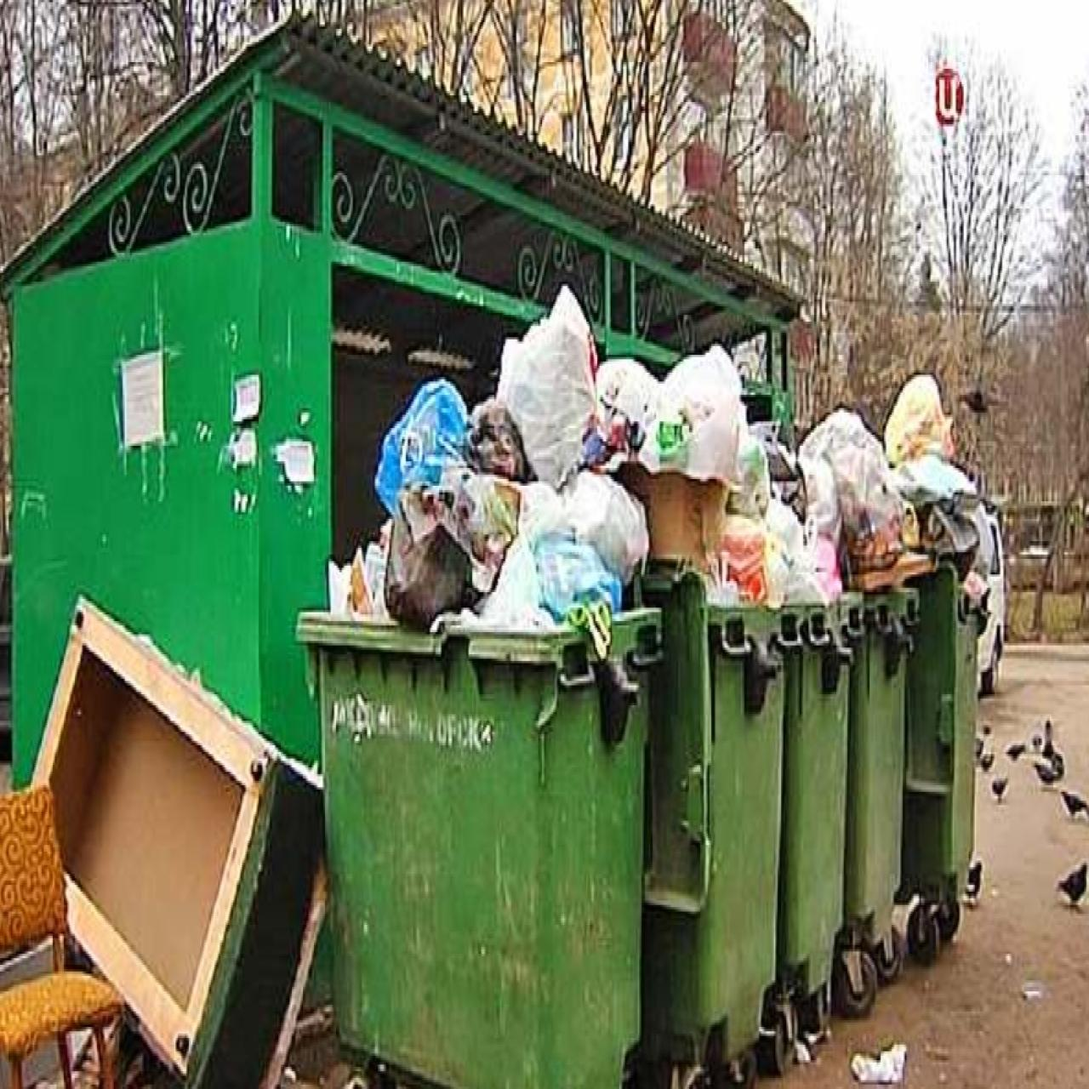bin_full: (298, 380, 659, 1088), (598, 347, 784, 1088), (801, 409, 917, 1018), (885, 375, 989, 941), (755, 432, 851, 1040)
bulk_waste: (33, 599, 324, 1088), (0, 785, 123, 1088), (620, 465, 725, 573)
